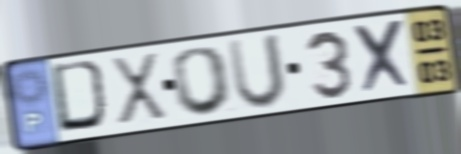3: (302, 26, 355, 102)
D: (48, 58, 114, 136)
O: (169, 44, 236, 118)
U: (225, 31, 289, 113)
X: (351, 16, 415, 97), (108, 50, 170, 127)
